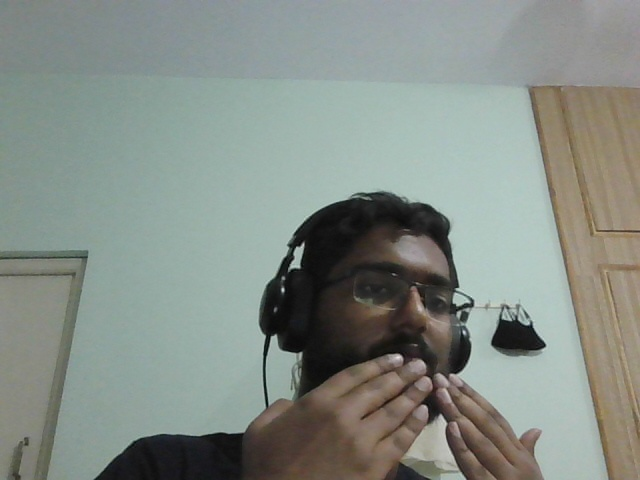Thank You: (249, 356, 551, 480)
